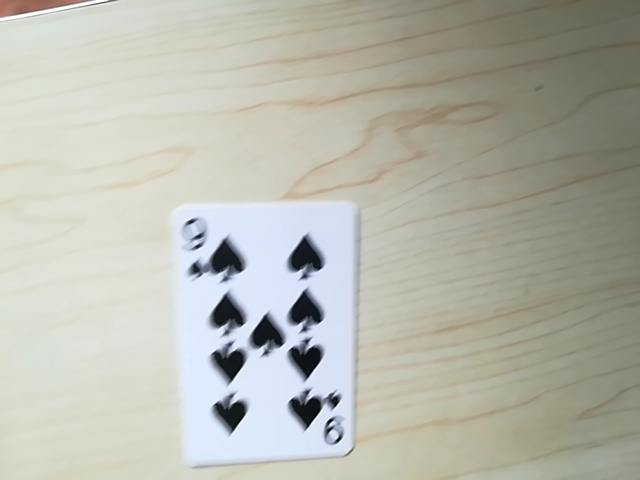ht 9: (174, 213, 216, 277), (314, 397, 348, 449)
